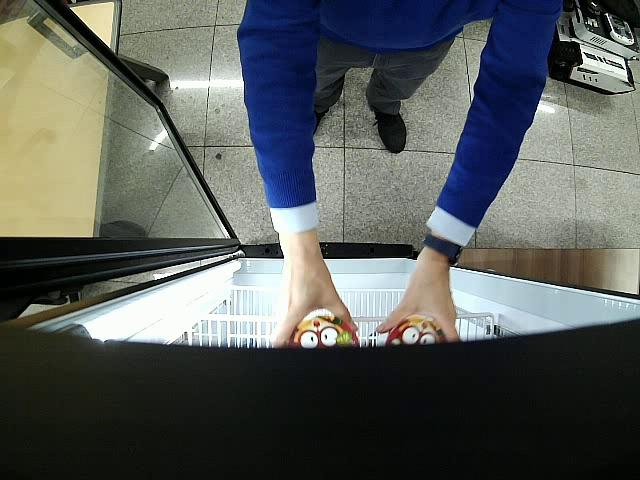00_hand: (272, 258, 354, 347), (376, 268, 458, 342)
06_nuguri_S: (287, 317, 360, 348), (385, 315, 448, 347)
